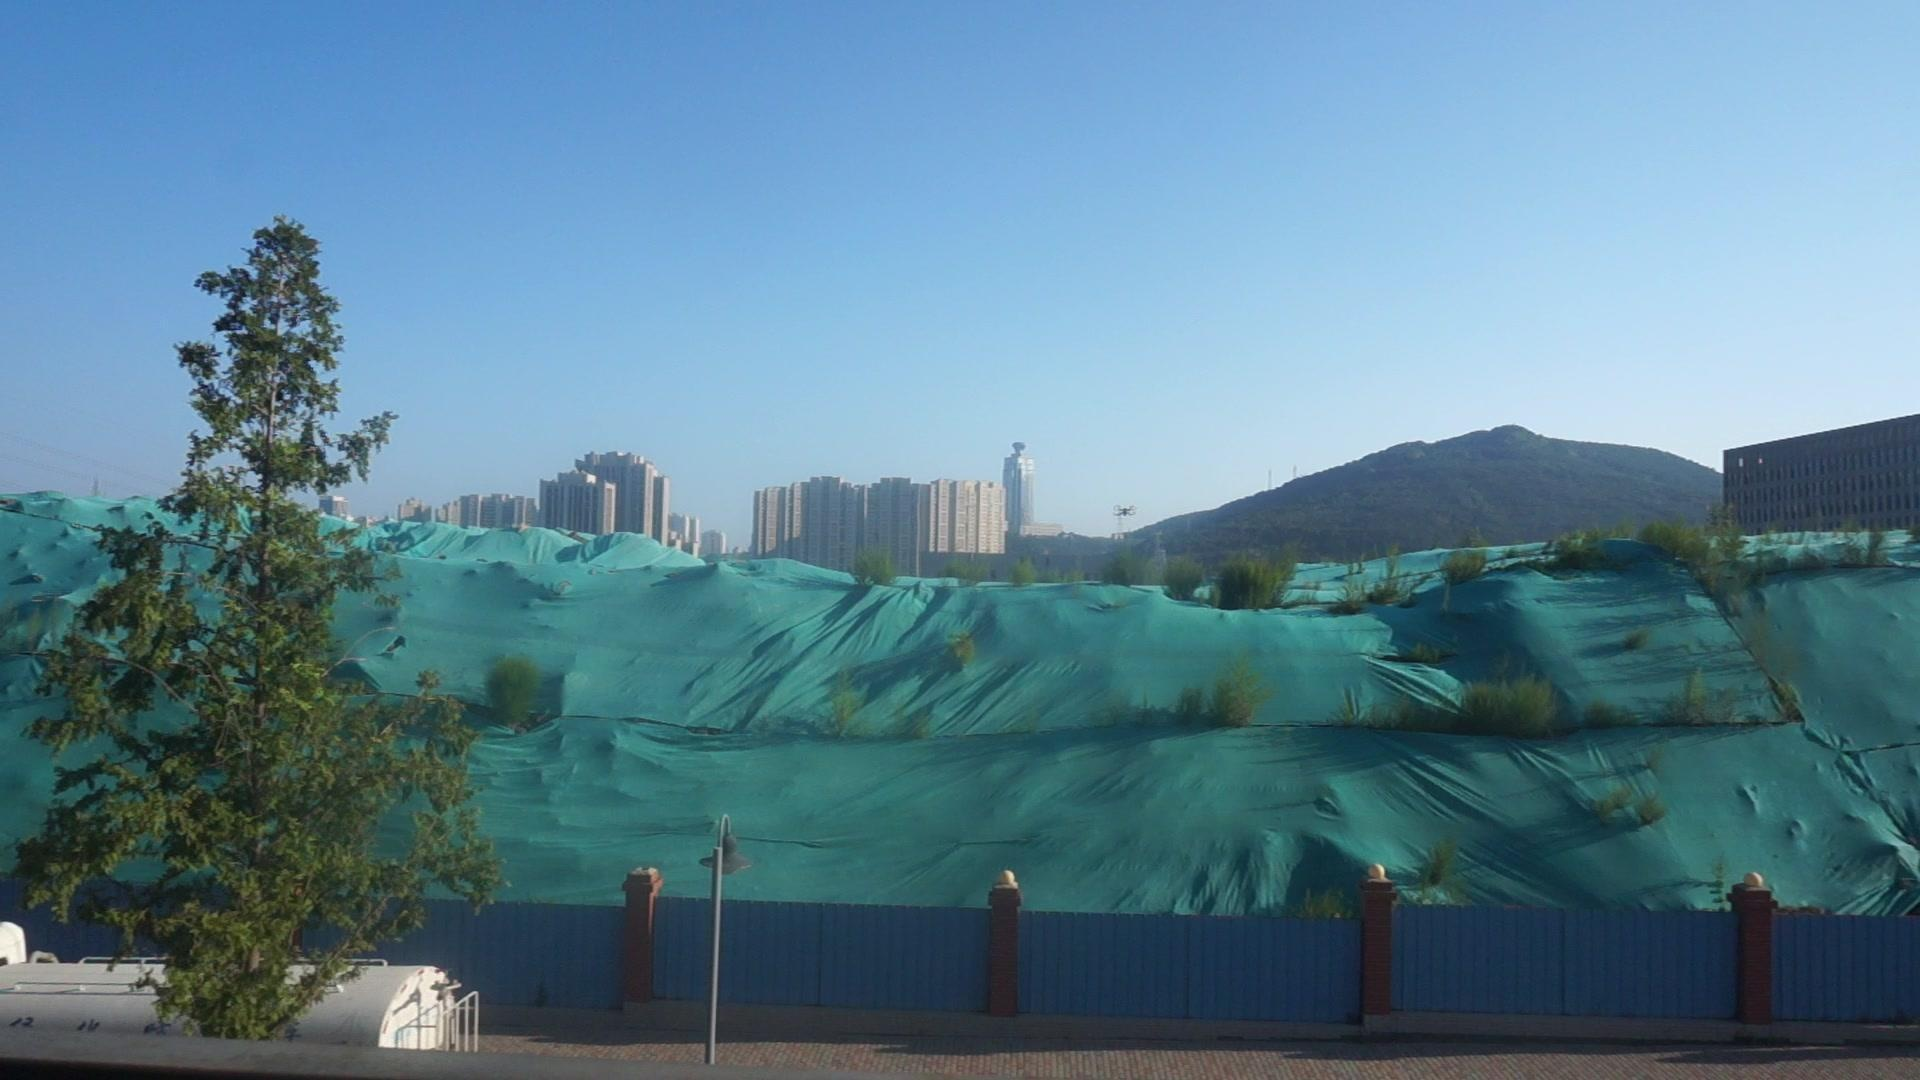UAV: (1113, 505, 1139, 517)
